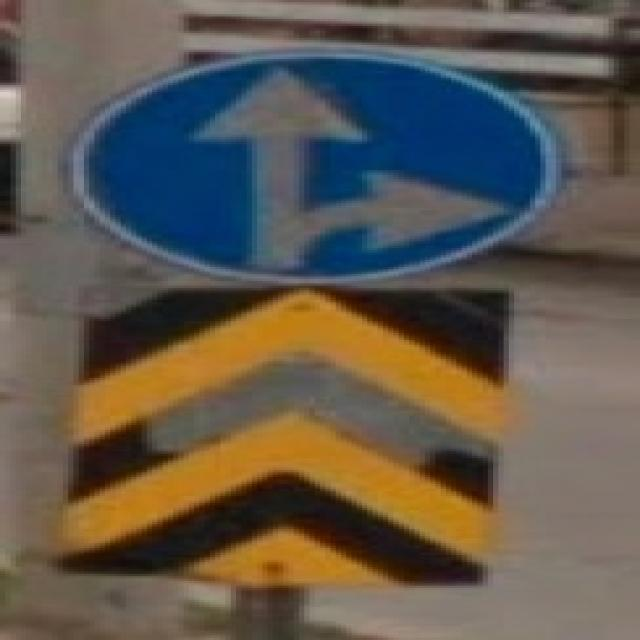Straight or Right: (80, 52, 562, 281)
